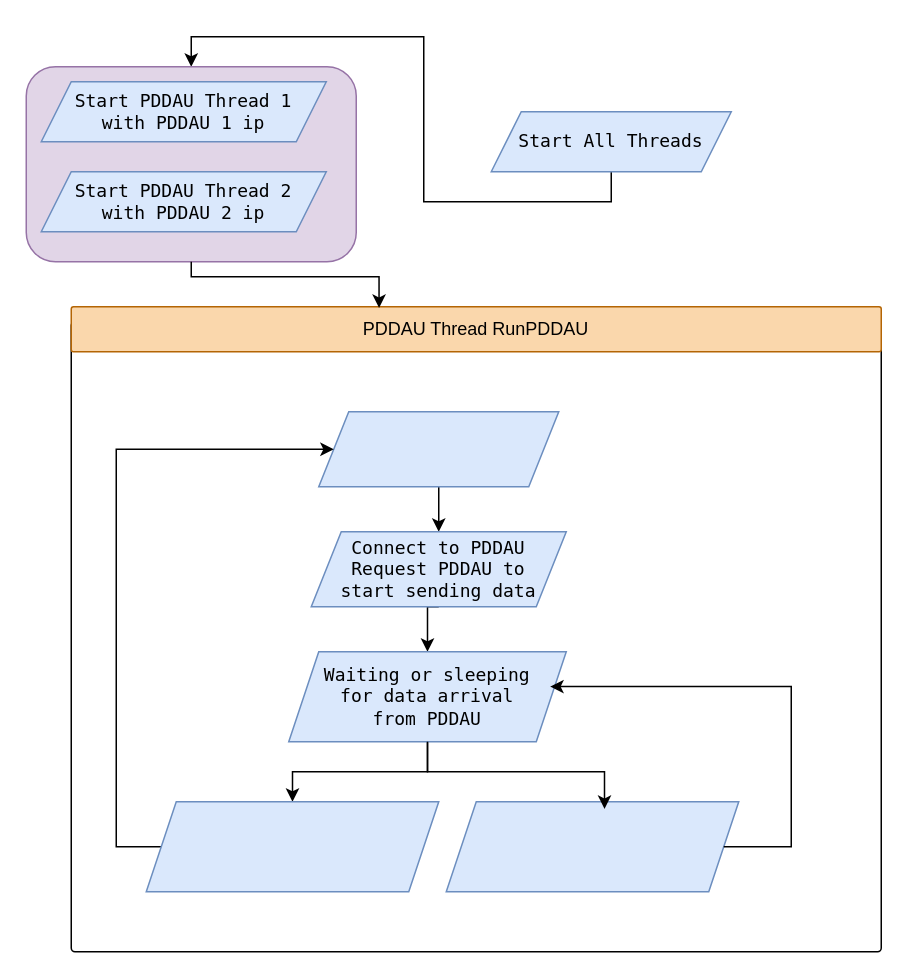
This 908x978 diagram has some shape labels left out. The centre of each missing label's shape, as x and y in pixels:
collect data and save into files.: pixel 592 846
Connect to PDDAU Set Amplification Reset PDDAU: pixel 438 448
In case of disconnection destroy socket: pixel 292 846
